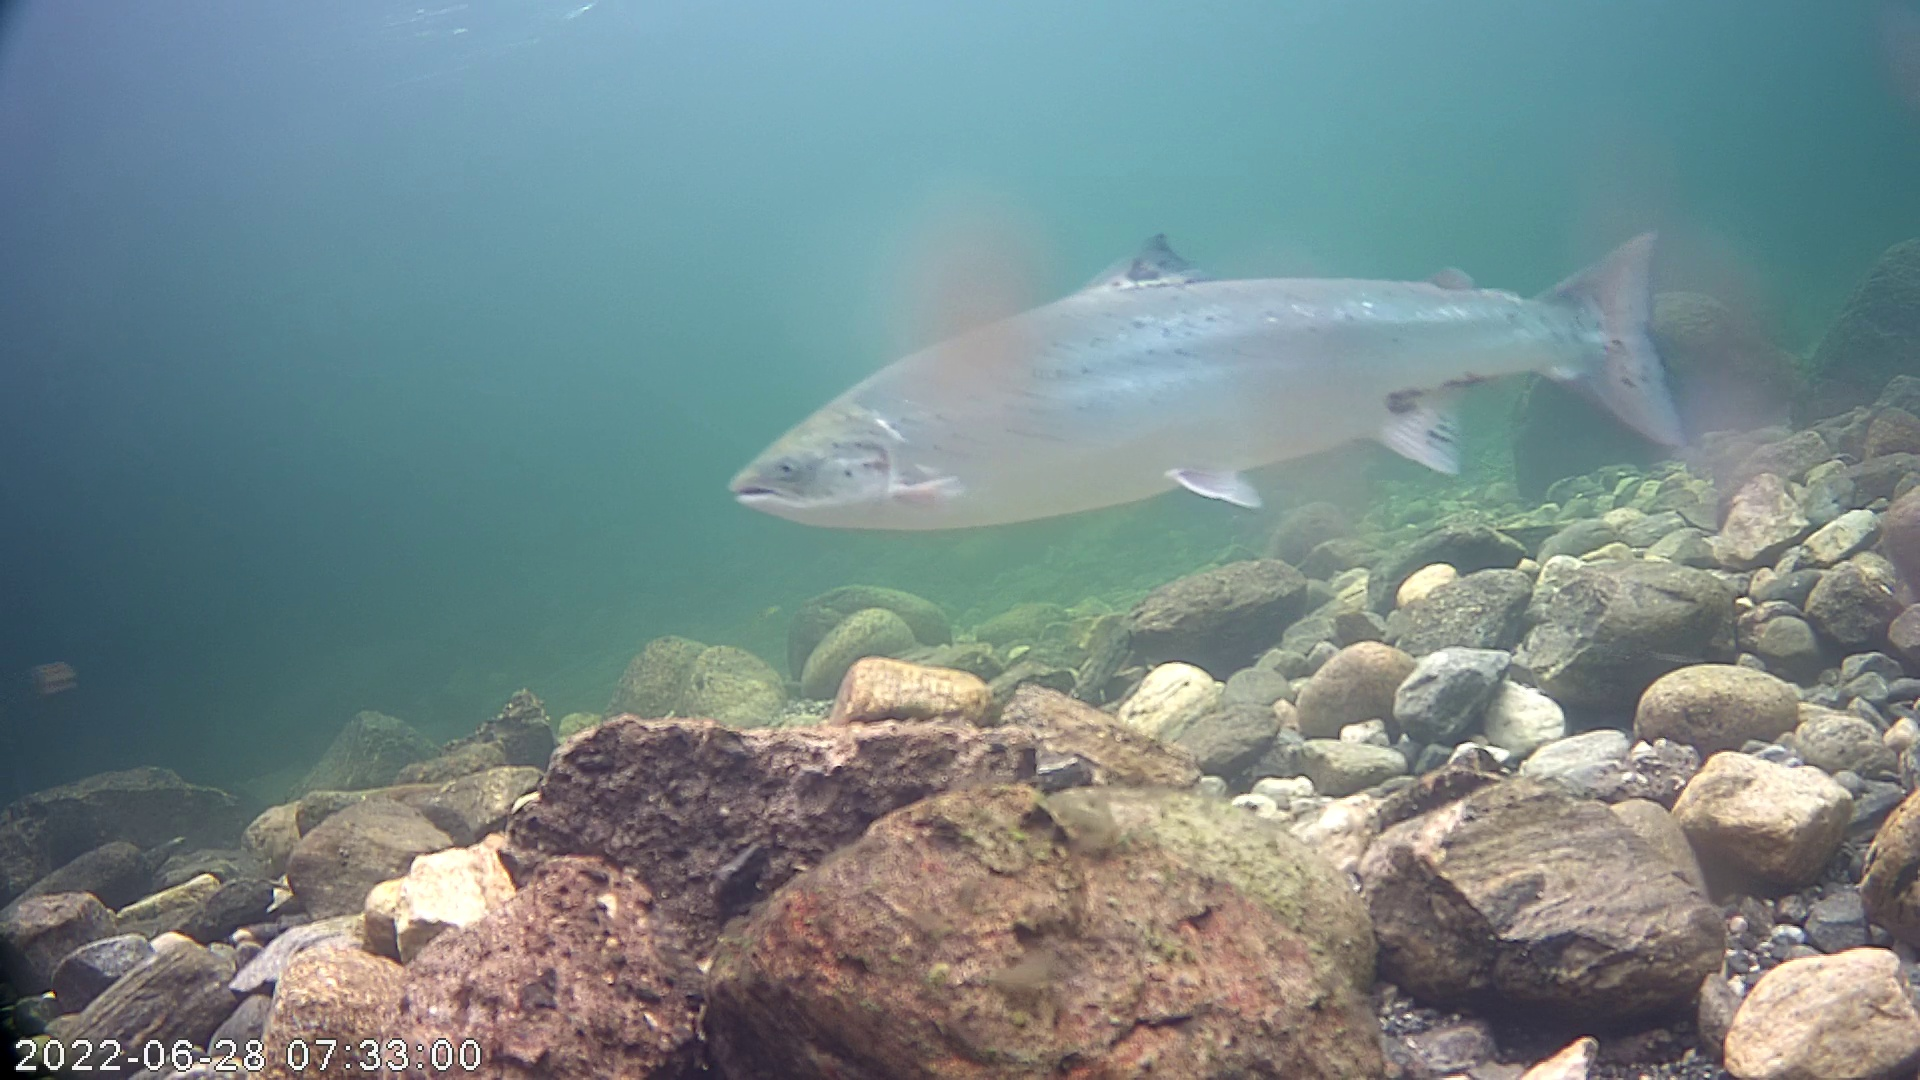salmon: (717, 145, 1718, 571)
